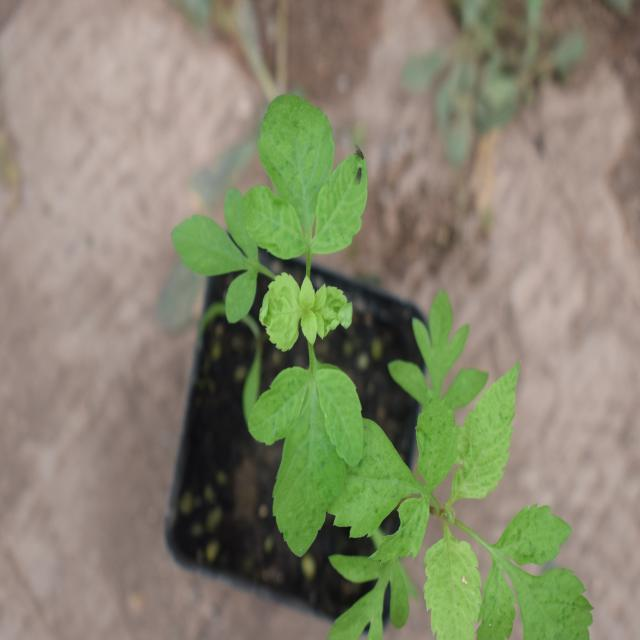Bidens pilosa: (189, 82, 401, 550), (355, 300, 586, 638)
